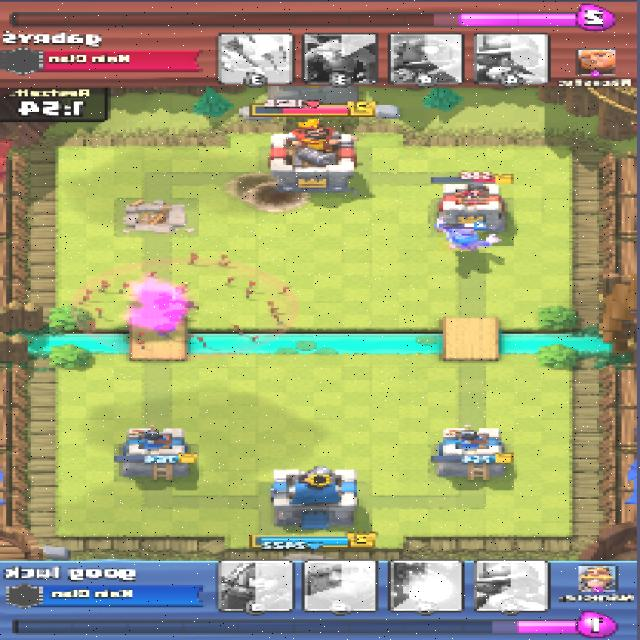Player-Arrow: (71, 256, 299, 358)
Player-Knight: (436, 218, 501, 250)
